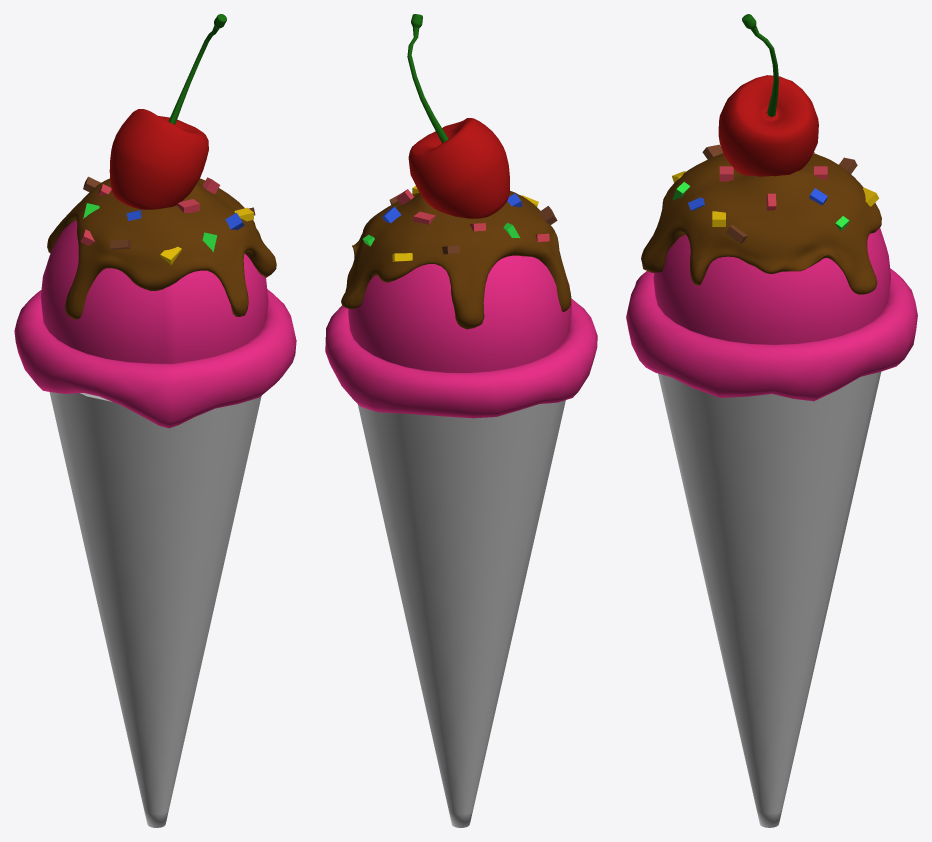
File: IceCreamCorn.fbx
3 views of the same model, side by side, from view 1: azimuth 30°, elevation 25°; view 2: azimuth 150°, elevation 25°; view 3: azimuth 270°, elevation 25° (orthographic). The views are drawn at different scales.
Visible parts, largest first — view 1: Cone001, Sphere001, Sauce.001, Cherry.002, Box002; view 2: Cone001, Sphere001, Sauce.001, Cherry.002, Box002; view 3: Cone001, Sphere001, Sauce.001, Cherry.002, Box002.
Part boxes in pixels (x1,y1,x2,y2): Cone001: (49,392,261,827); Sphere001: (14,221,296,428); Sauce.001: (47,178,276,319); Cherry.002: (109,14,226,209); Box002: (80,176,255,264); Cone001: (357,400,565,827); Sphere001: (325,255,597,418); Sauce.001: (341,191,571,329); Cherry.002: (407,14,509,218); Box002: (362,185,557,261); Cone001: (658,372,881,827); Sphere001: (626,228,917,401); Sauce.001: (641,153,881,294); Cherry.002: (718,14,818,176); Box002: (672,144,879,243).
Size of the model in its own units: 257 by 810 by 256.
